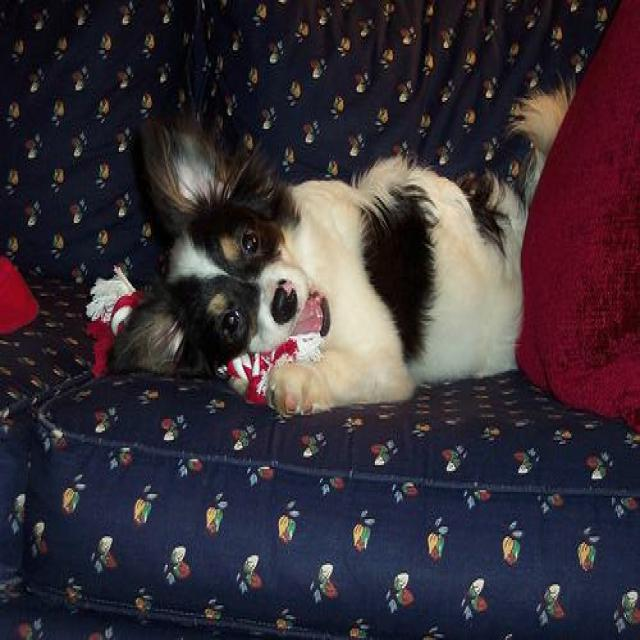papillon: (103, 90, 570, 417)
